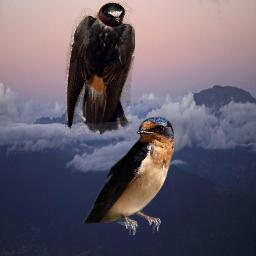Swallow: (82, 116, 174, 235), (65, 2, 135, 135)
